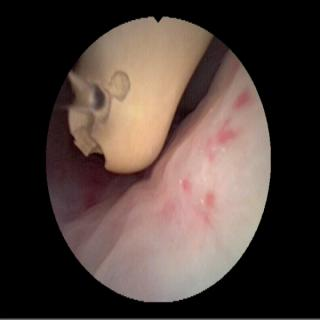stone: (69, 21, 211, 174)
tissue: (50, 48, 266, 296)
